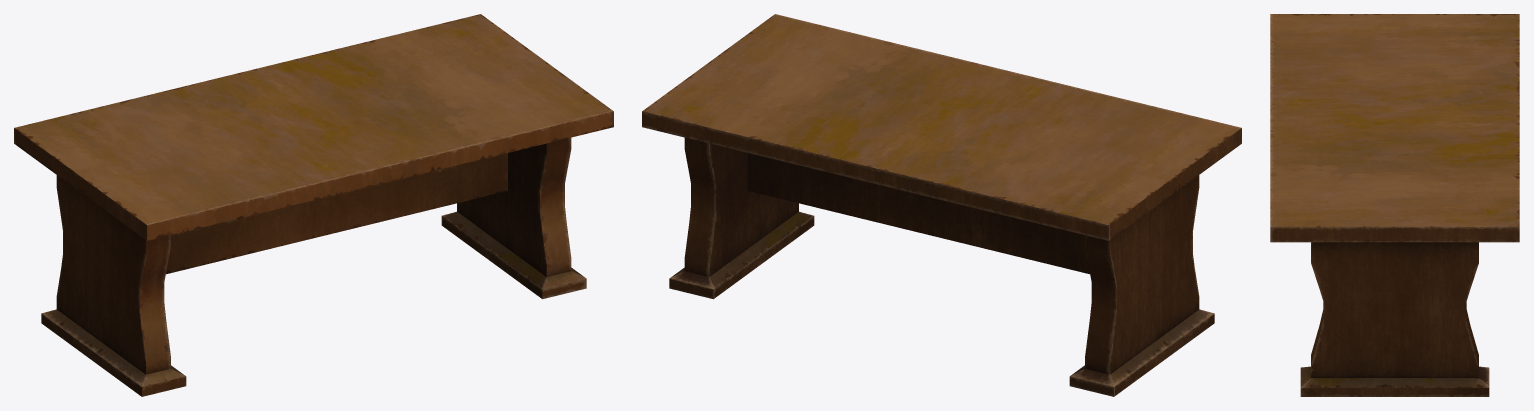
The model's file is wooden_table._practical_model_-_yadira.glb.
3 views of the same model, side by side, from view 1: azimuth 30°, elevation 25°; view 2: azimuth 150°, elevation 25°; view 3: azimuth 270°, elevation 25° (orthographic). The views are drawn at different scales.
Parts seen in each view (by area): view 1: Cubo_1; view 2: Cubo_1; view 3: Cubo_1.
Boxes of the visible parts, x1,y1,x2,y2 form: Cubo_1: (14, 14, 613, 396); Cubo_1: (642, 14, 1241, 396); Cubo_1: (1270, 14, 1519, 396).
Bounding box in the file's own units: 2 × 0.7624 × 0.9872.
Materials: 1 (1 with a texture image).
